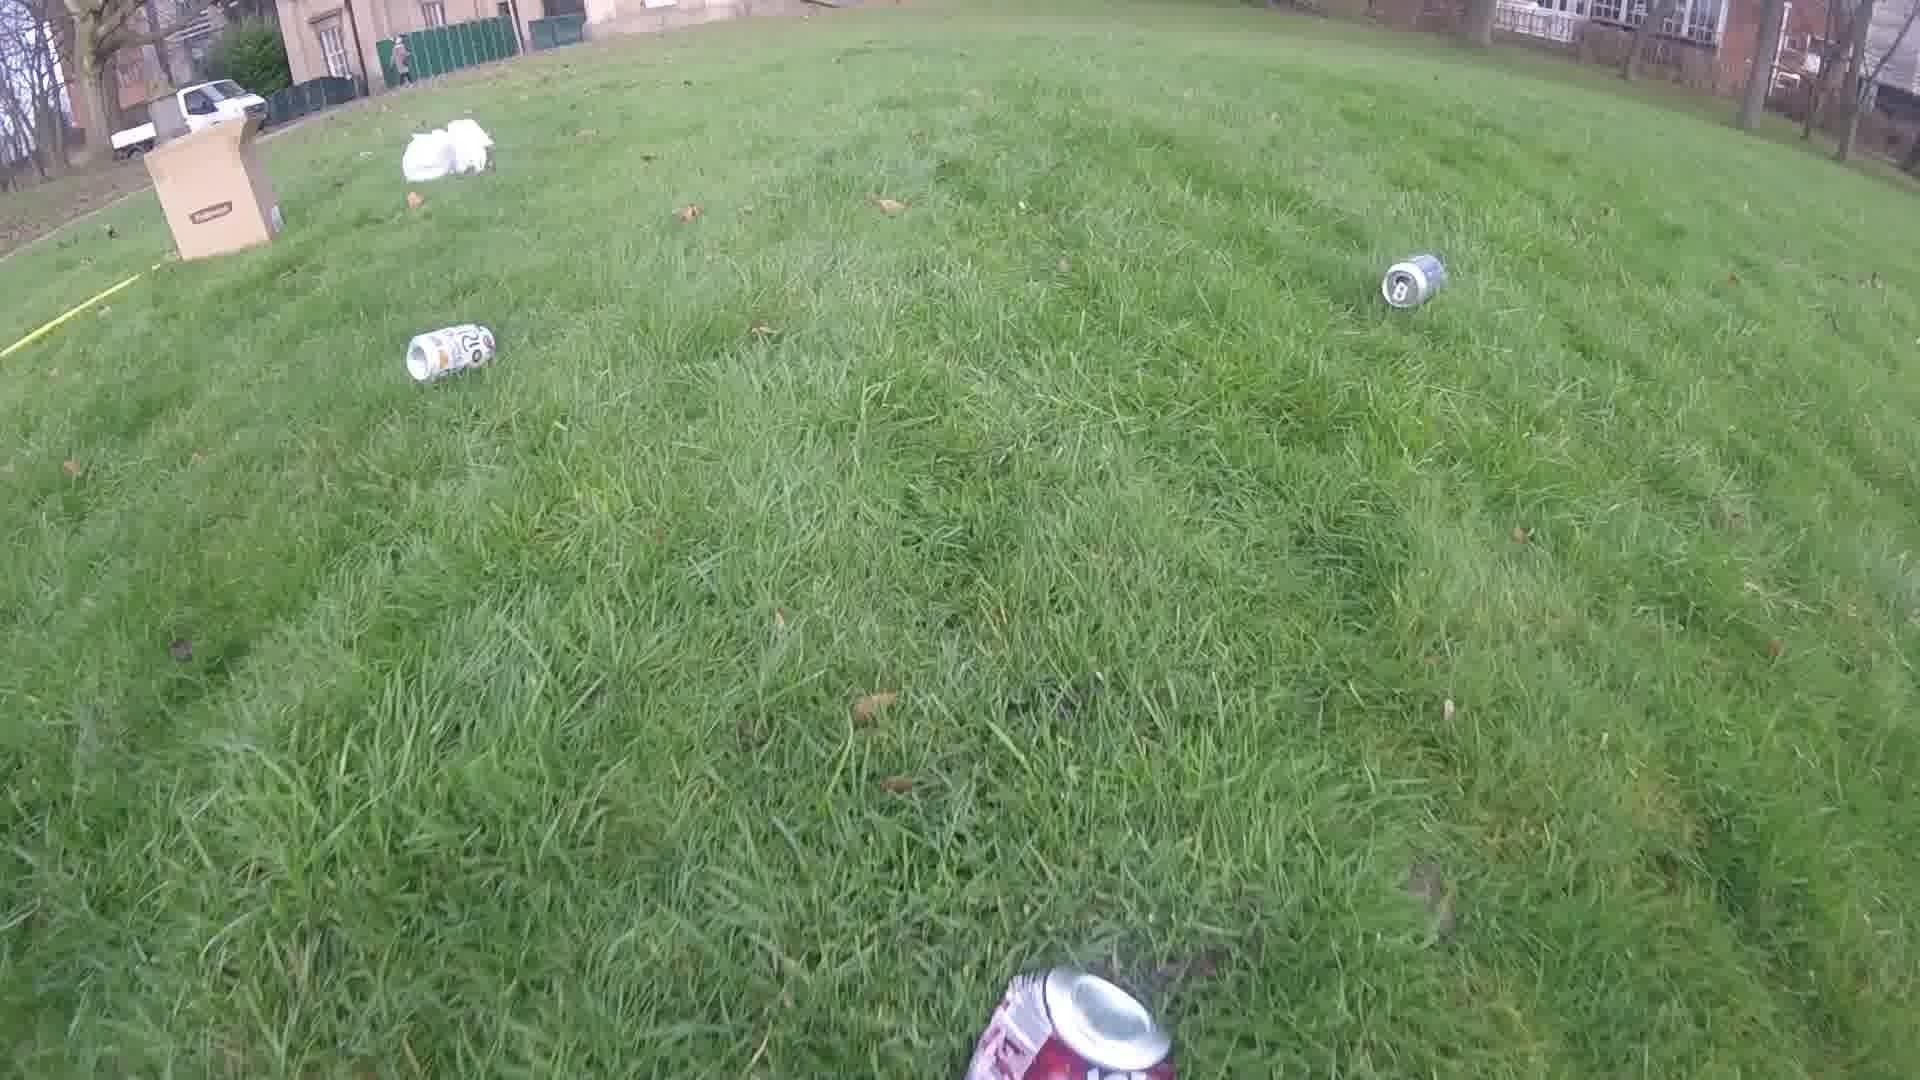litter: (957, 965, 1174, 1080), (142, 117, 284, 261), (400, 117, 491, 182), (402, 324, 496, 380), (1378, 252, 1443, 307)
